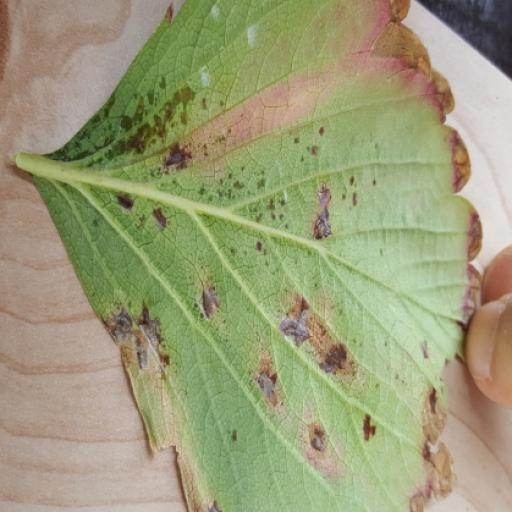Angular Leafspot: (28, 0, 472, 511)
